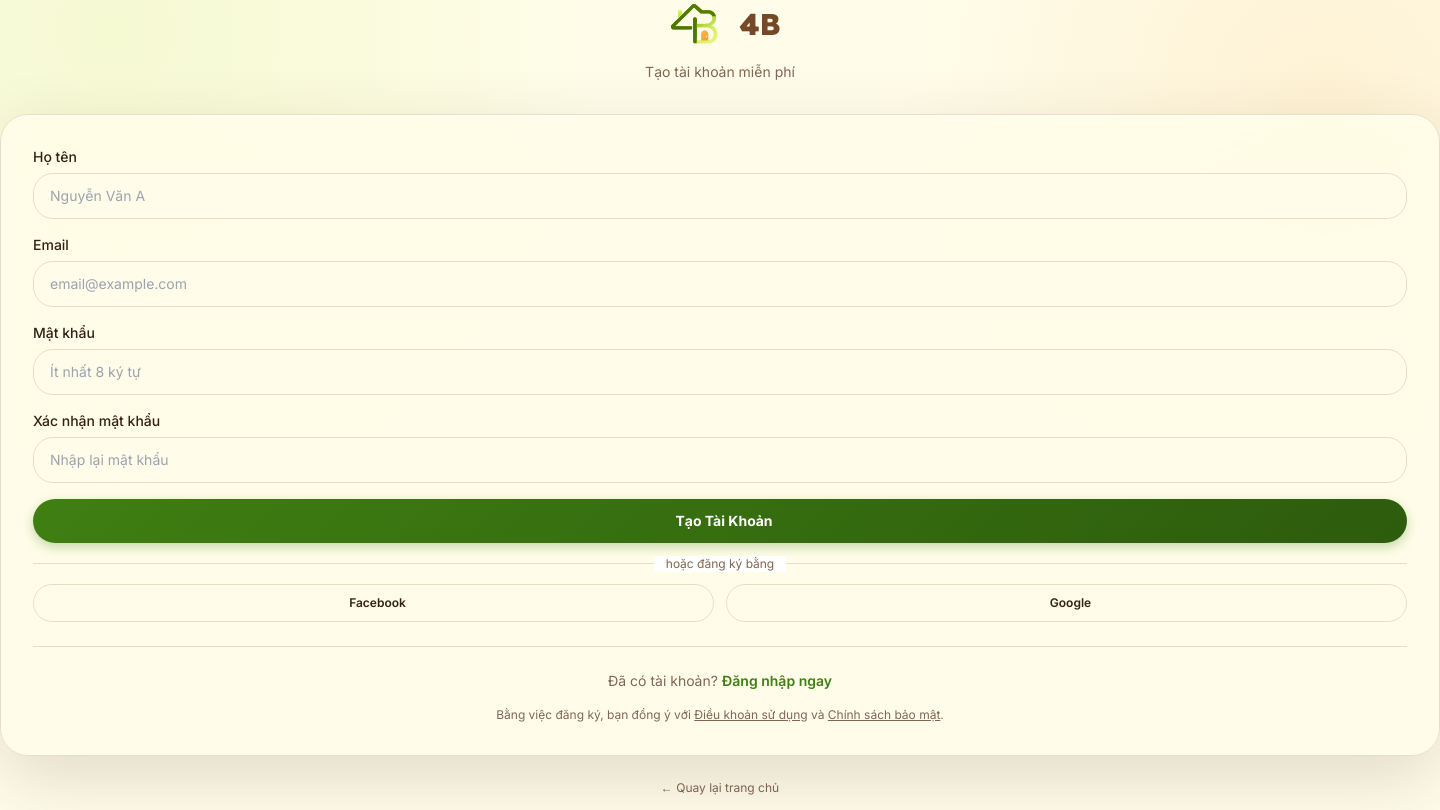
Test case: Authentication Pages › RegisterPage › validates empty inputs and password confirmation mismatch
Click the button "Tạo Tài Khoản": (720, 521) [33, 499, 1407, 543]
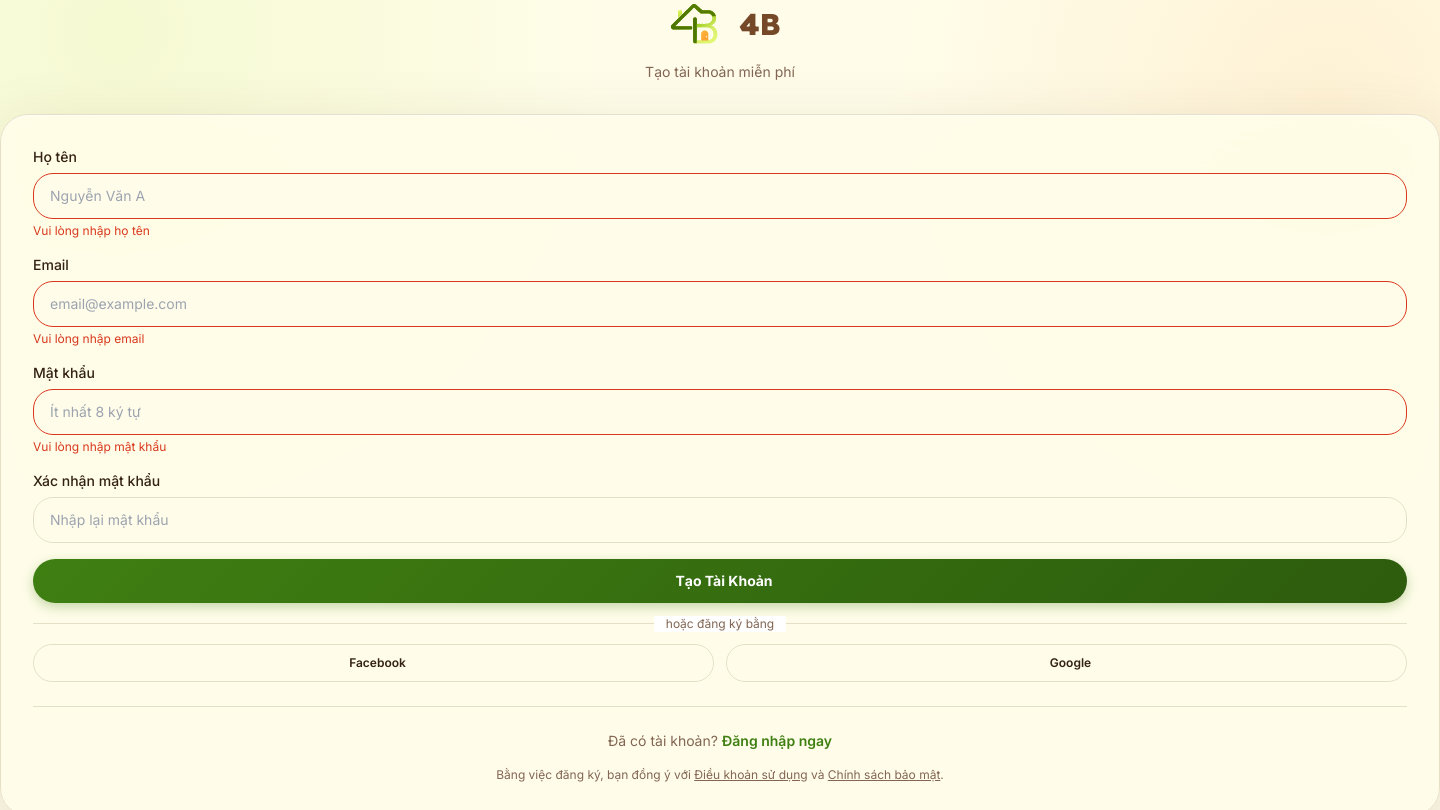
Check: the text "Vui lòng nhập họ tên" is shown, box [33, 223, 150, 238]
Check: the text "Vui lòng nhập email" is shown, box [33, 331, 144, 346]
Check: the text "Vui lòng nhập mật khẩu" is shown, box [33, 439, 166, 454]
